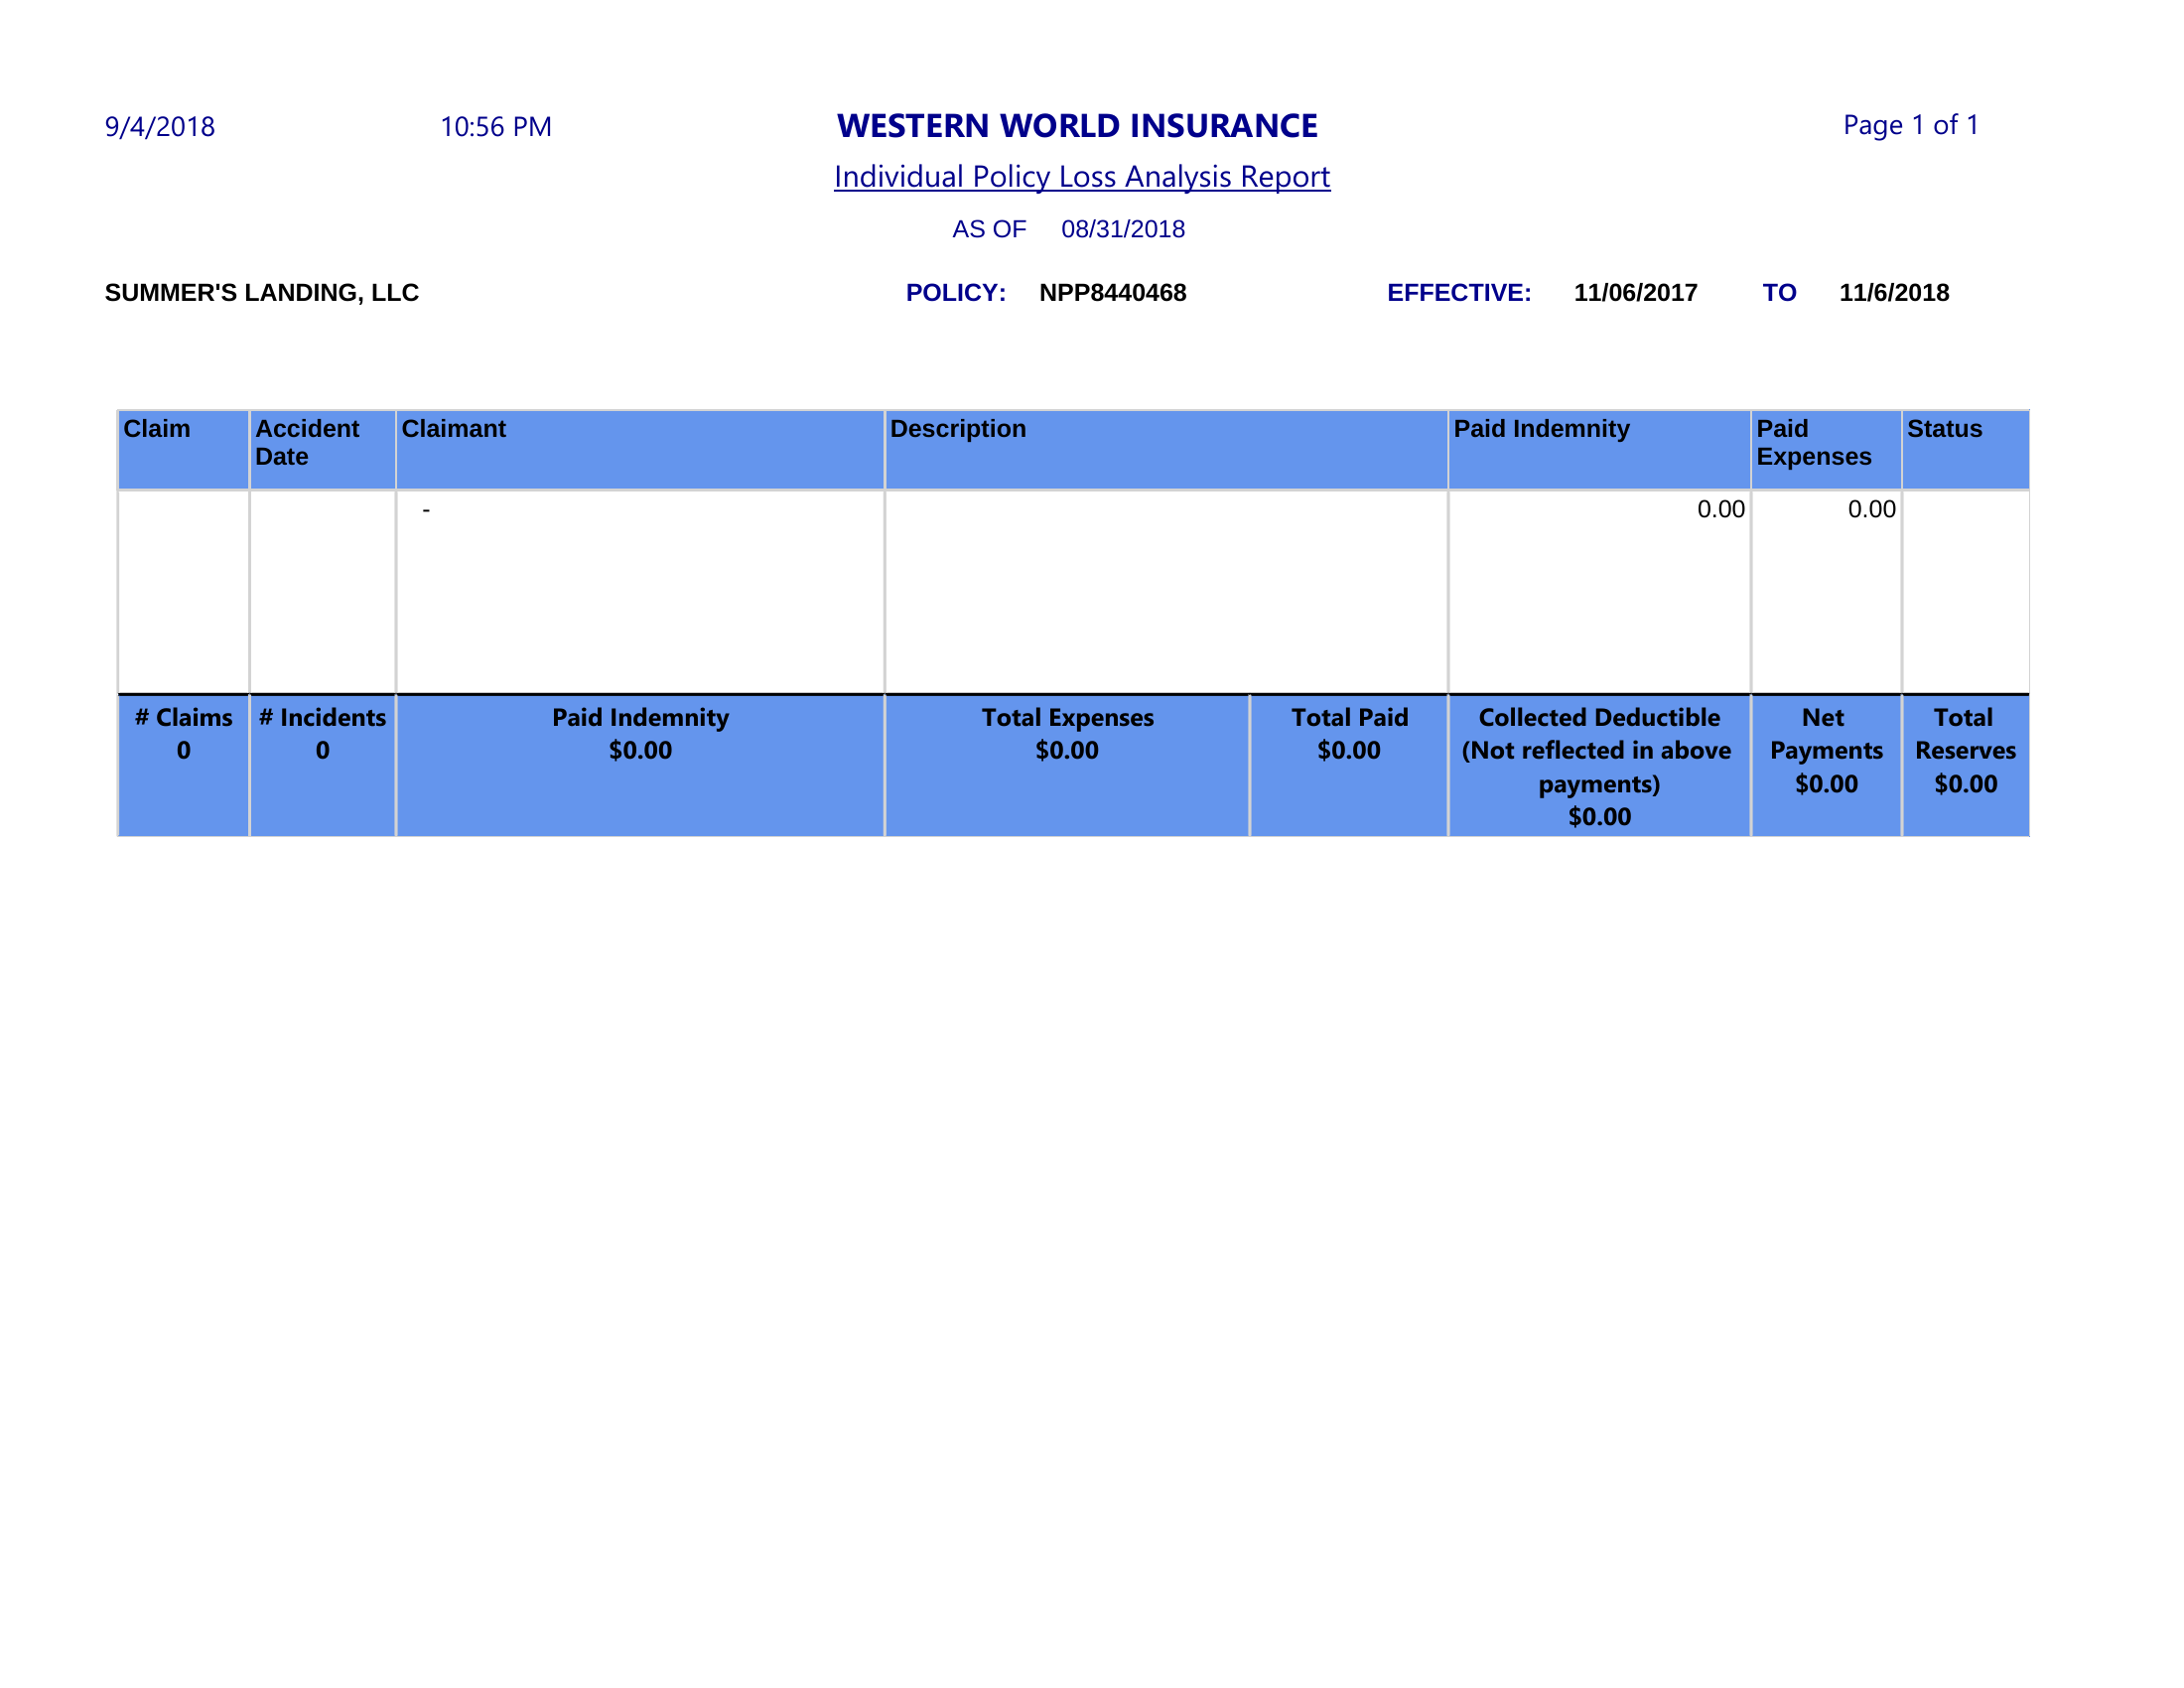No-loss: (96, 394, 2056, 904)
